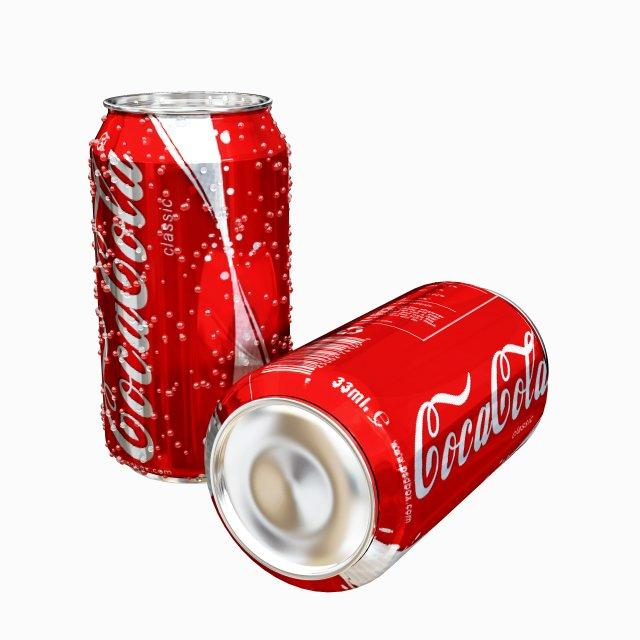cocacola: (199, 264, 554, 570), (89, 88, 303, 502)
